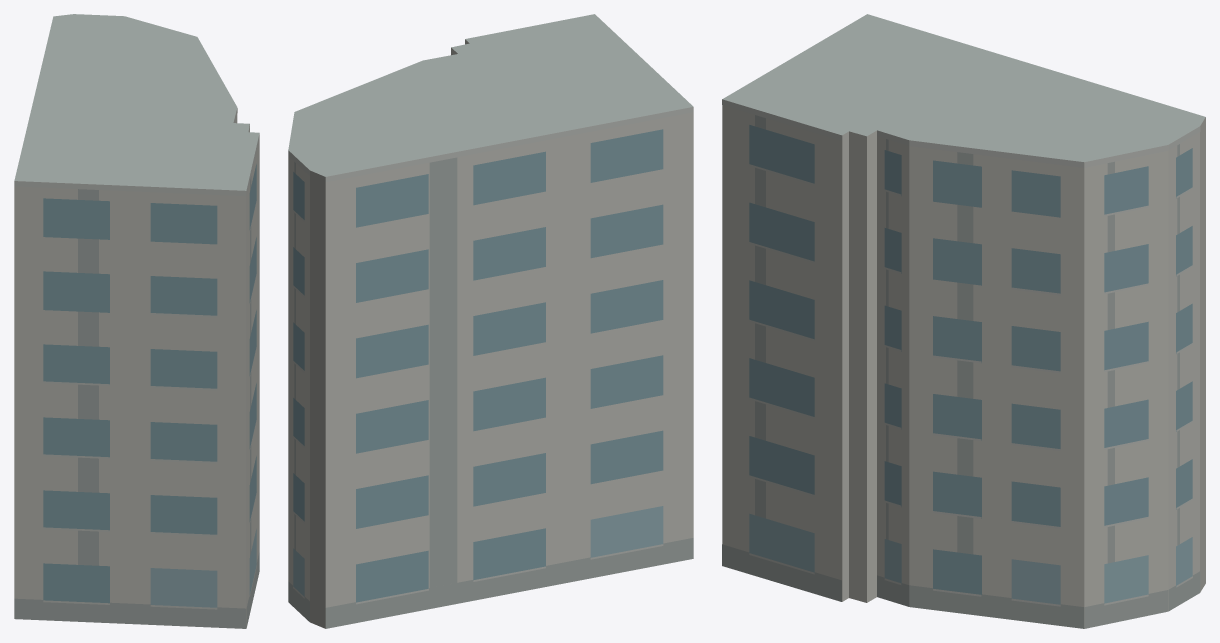
File: survey-upis-32938026.glb
The picture shows the model from 3 angles, left to right: view 1: azimuth 30°, elevation 25°; view 2: azimuth 150°, elevation 25°; view 3: azimuth 270°, elevation 25°; orthographic projection. The views are drawn at different scales.
Parts seen in each view (by area): view 1: survey-upis-32938026.tmp; view 2: survey-upis-32938026.tmp; view 3: survey-upis-32938026.tmp.
Part boxes in pixels (bbox=[...]): survey-upis-32938026.tmp: bbox=[14, 14, 259, 628]; survey-upis-32938026.tmp: bbox=[288, 14, 693, 628]; survey-upis-32938026.tmp: bbox=[722, 14, 1205, 628].
Bounding box in the file's own units: 13.42 × 19.7 × 18.51.
